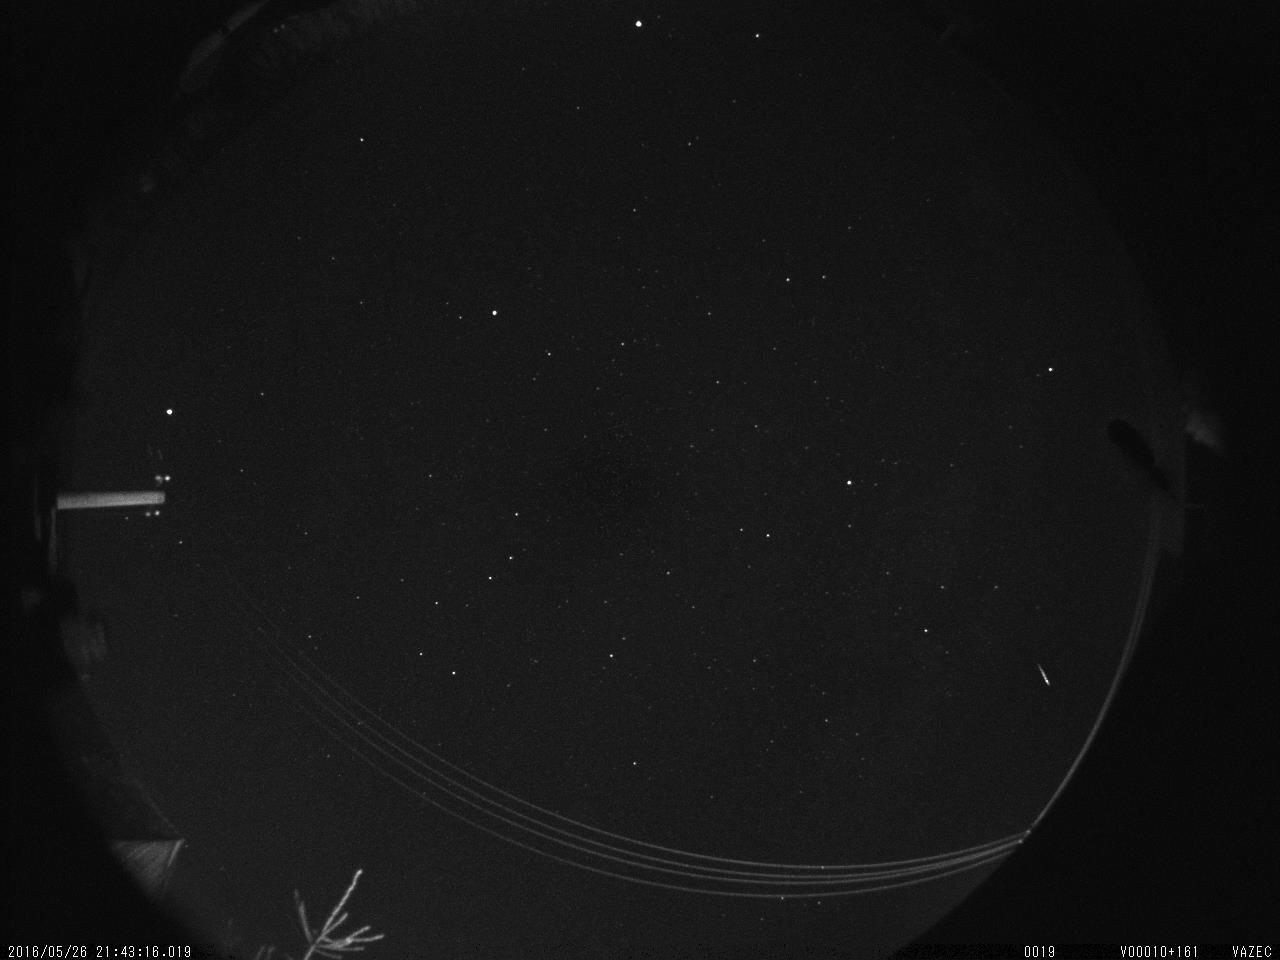Meteor: (1033, 657, 1057, 691)
